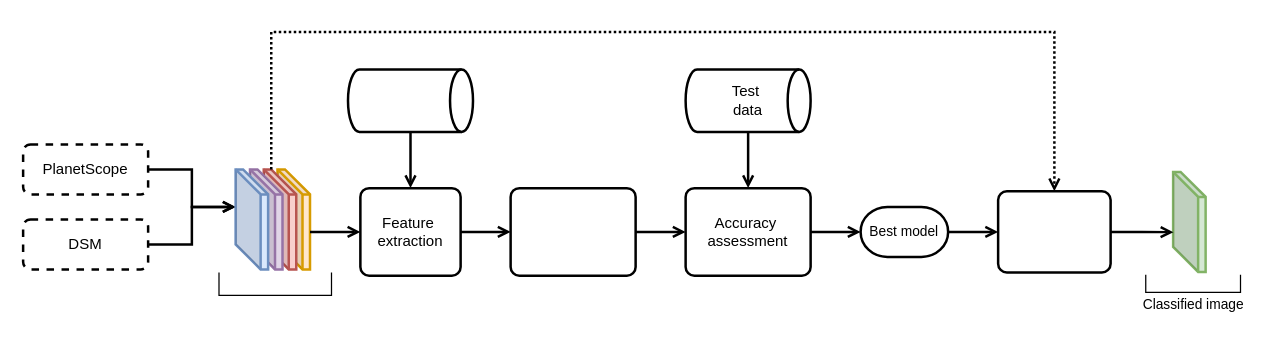
This 1276x346 diagram has some shape labels left out. Each missing label, with the box of its shape:
Layerstack: (218, 271, 332, 295)
Prediction: (996, 189, 1111, 273)
Random Forest classifier: (509, 186, 636, 276)
Training data: (346, 68, 474, 132)
